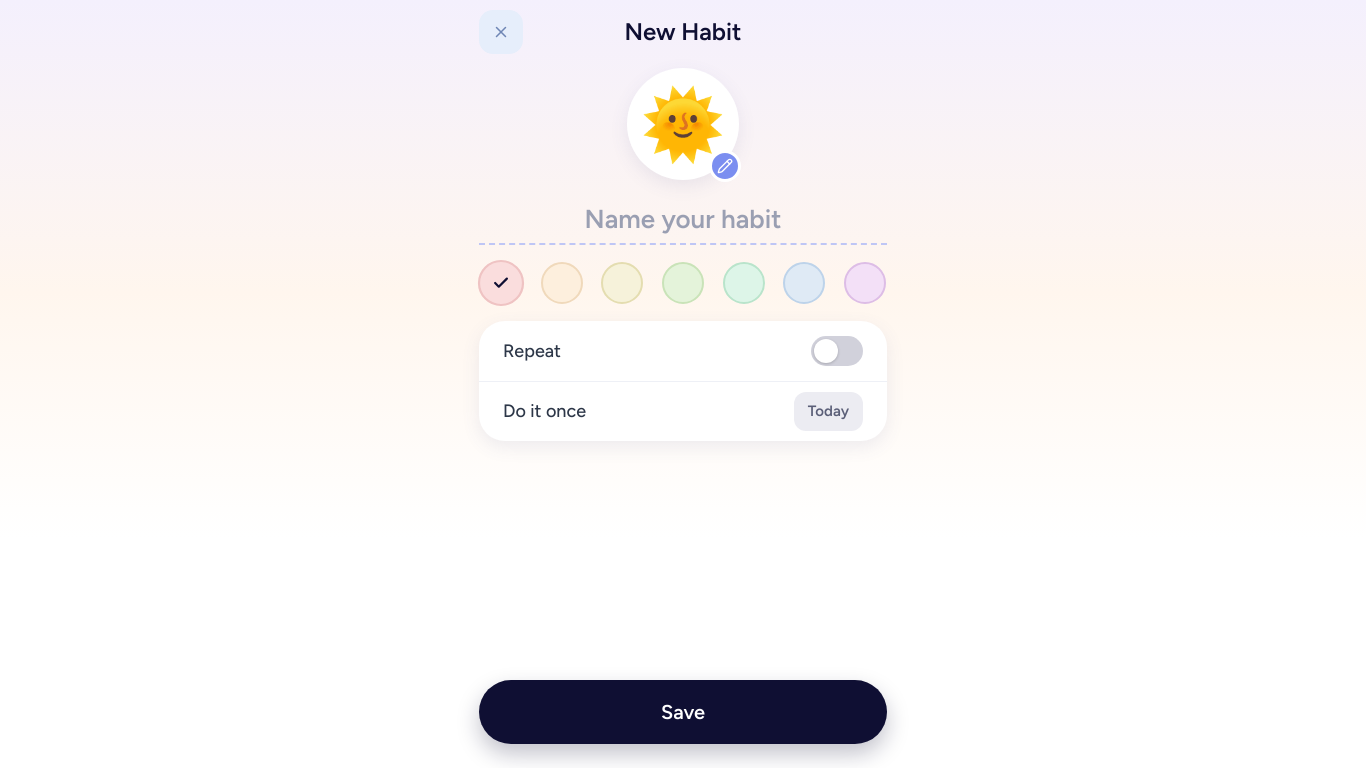
Test: NewHabitForm › US01-AC5 shows the exact case-insensitive duplicate error
The width and height of the screenshot is (1366, 768).
Type " stretch " into the field labelled "Habit name" at x=683, y=220, box x1=479 y1=196 x2=887 y2=245
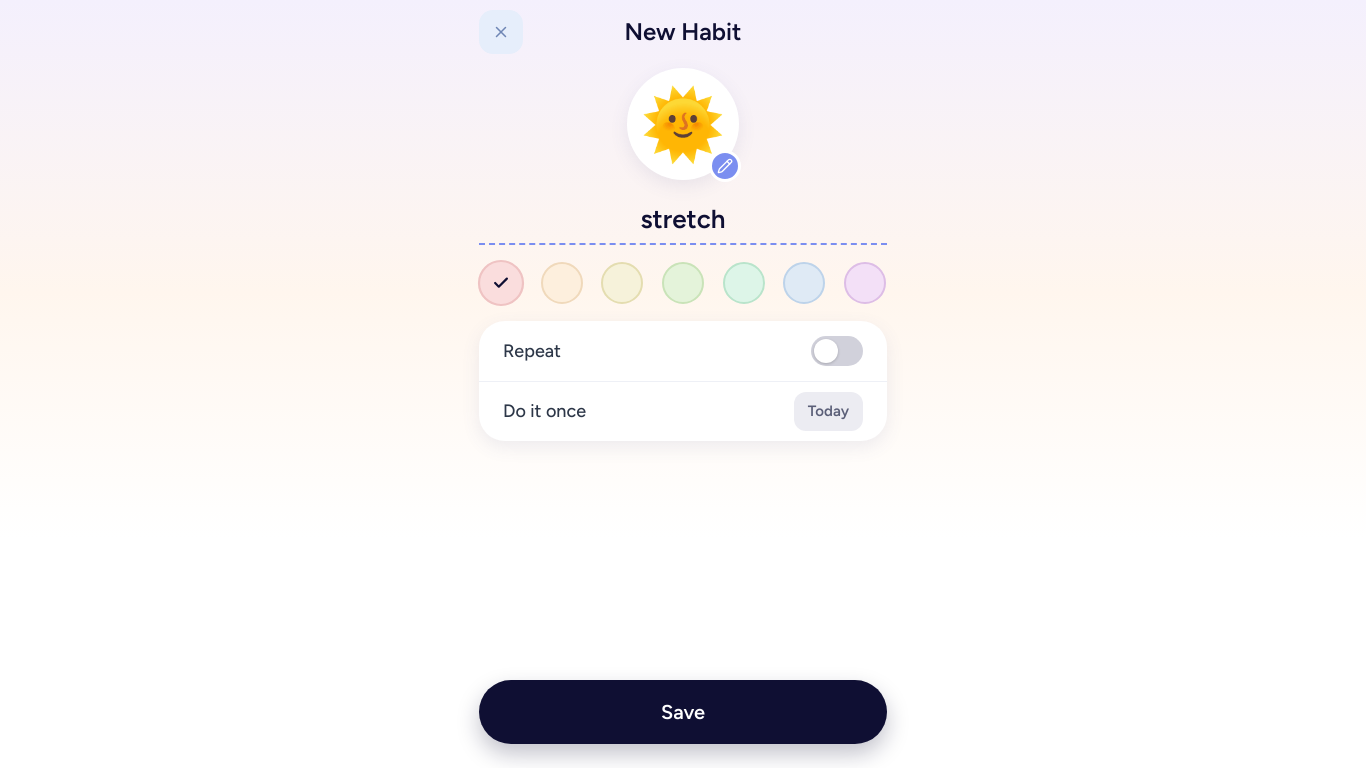
Click the button "Save" at x=683, y=712, box x1=479 y1=680 x2=887 y2=744
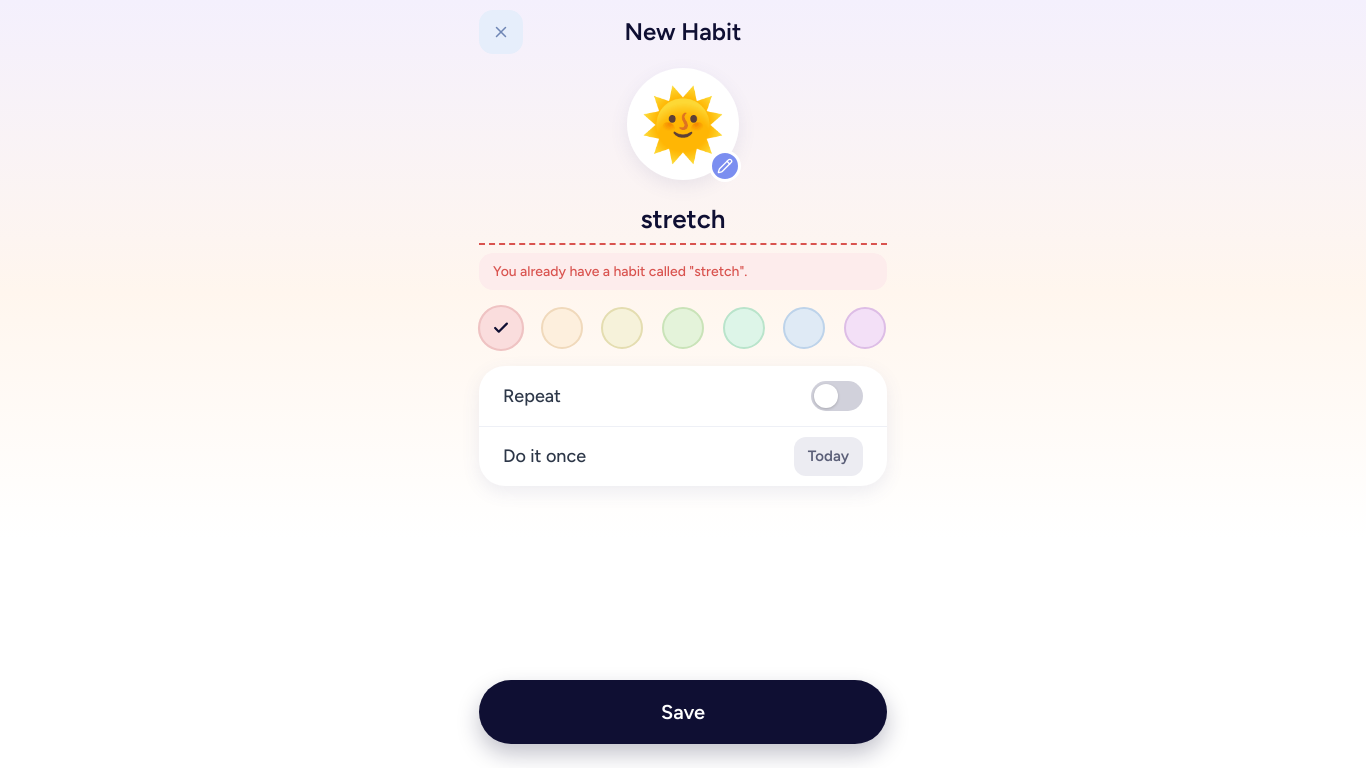
Now the text "You already have a habit called \"stretch\"." is shown, box x1=479 y1=253 x2=887 y2=290
